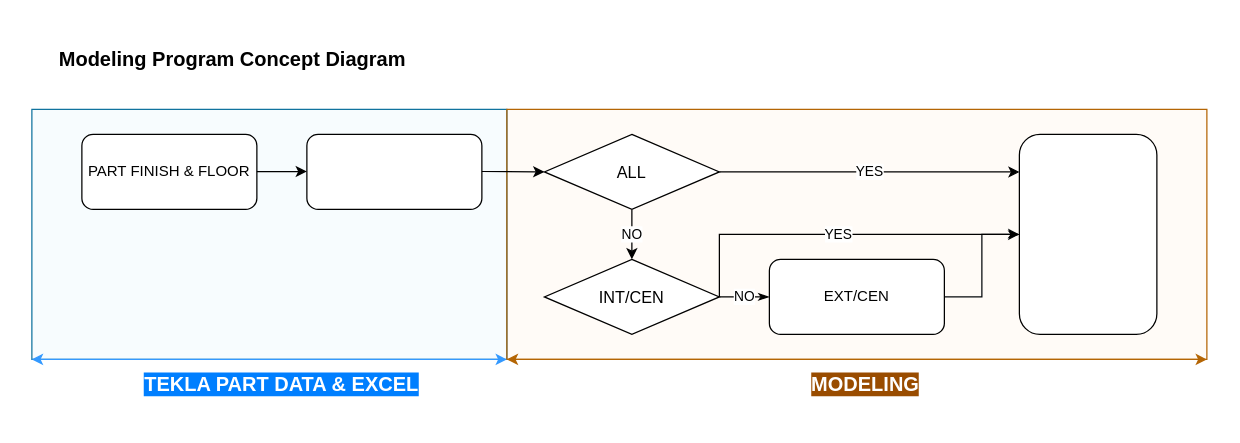
The diagram is 1240 pixels wide and 443 high, and some of its shapes have lost their labels. The centre of each missing label's shape, as x and y in pixels:
"EXCEL 해당 셀 MATCH" goes at point (394, 171).
"MODEL MODIFY" goes at point (1087, 233).
